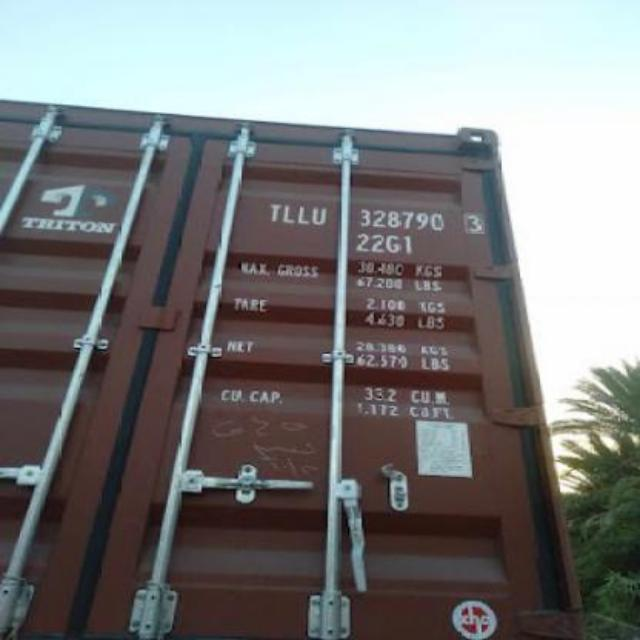0: (431, 203, 444, 233)
2: (372, 205, 386, 231)
3: (464, 210, 486, 234), (358, 204, 372, 230)
7: (402, 204, 416, 232)
8: (388, 205, 398, 231)
9: (414, 207, 428, 236)
L: (296, 202, 312, 228), (280, 200, 296, 224)
T: (268, 200, 282, 224)
U: (310, 202, 328, 230)
